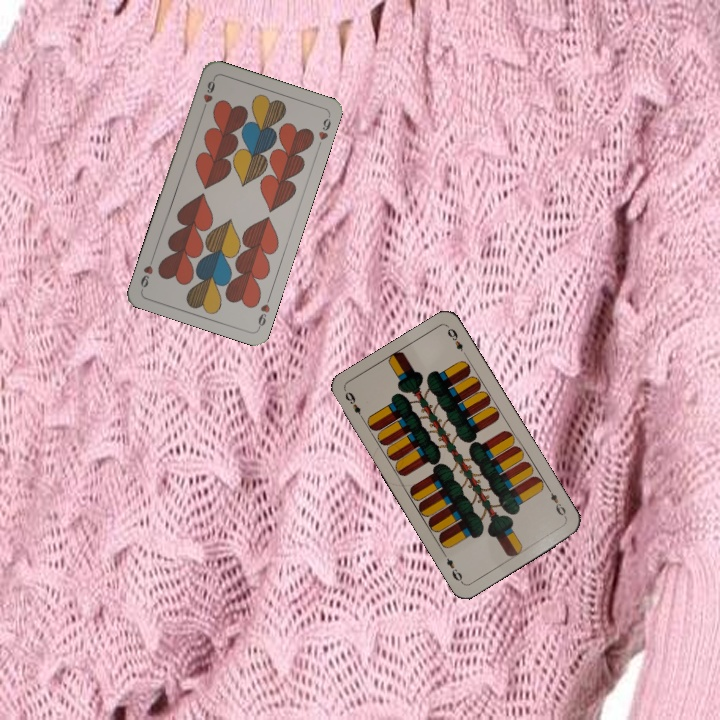E9: (341, 388, 367, 424), (544, 484, 569, 521)
H9: (198, 74, 218, 114), (254, 291, 274, 331)
